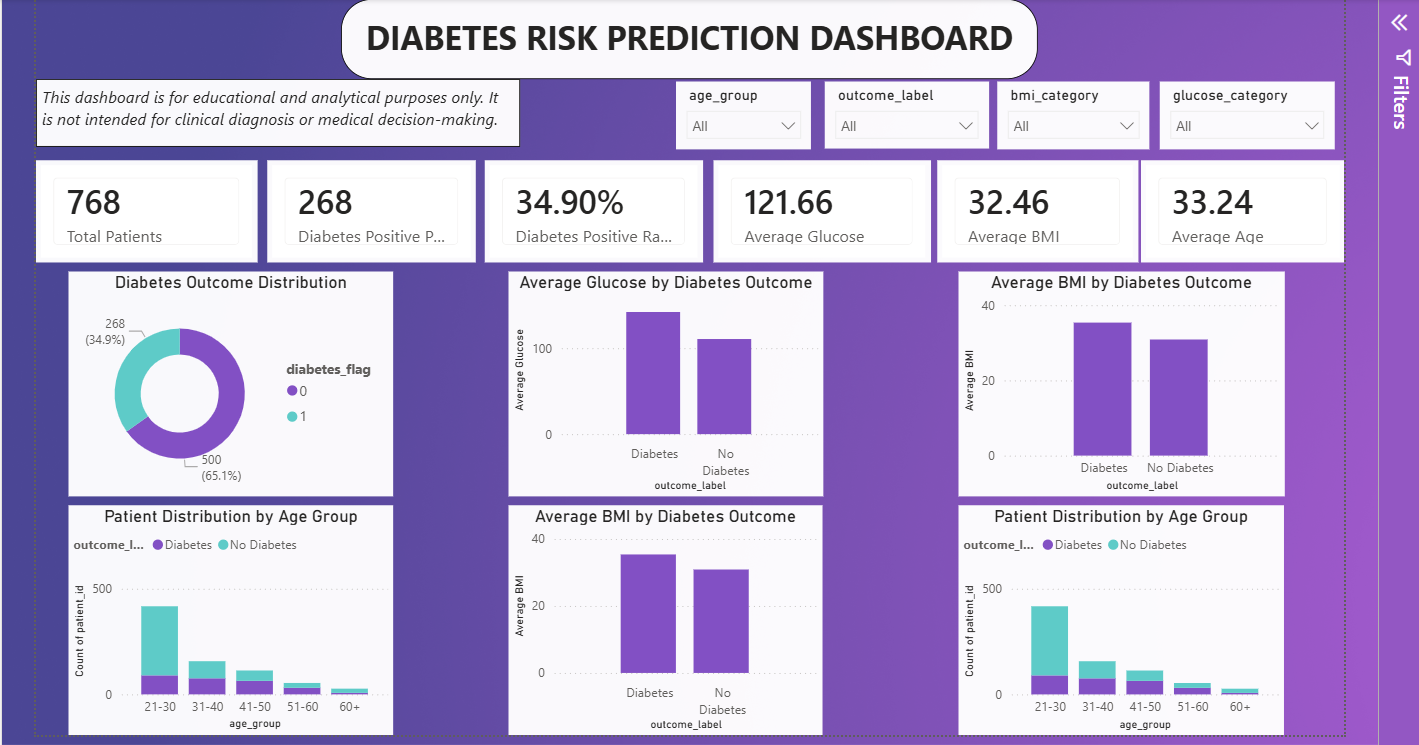

The dashboard page shown, as its layout file describes it:
{"tool":"powerbi","page":{"name":"Patient Risk Overview","canvas":[1280,720],"ordinal":0},"visuals":[{"type":"textbox","box":[0,78.3,473.2,66],"z":1},{"type":"textbox","box":[297.8,0,682,78.2],"z":2},{"type":"cardVisual","fields":{"Data":["fact_patients.Total Patients"]},"box":[0,157.7,216.4,100.3],"z":3},{"type":"cardVisual","fields":{"Data":["fact_patients.Diabetes Positive Patients"]},"box":[226.2,157.7,204.2,100.3],"z":4},{"type":"cardVisual","fields":{"Data":["fact_patients.Diabetes Positive Rate"]},"box":[439,157.7,214,100.3],"z":5},{"type":"cardVisual","fields":{"Data":["fact_patients.Average Glucose"]},"box":[662.8,157.7,212.8,100.3],"z":6},{"type":"cardVisual","fields":{"Data":["fact_patients.Average BMI"]},"box":[881.7,157.7,196.9,100.3],"z":7},{"type":"cardVisual","fields":{"Data":["fact_patients.Average Age"]},"box":[1081,157.7,199.3,100.3],"z":8},{"type":"donutChart","title":"Diabetes Outcome Distribution","fields":{"Category":["fact_patients.diabetes_flag"],"Y":["CountNonNull(fact_patients.diabetes_flag)"]},"box":[31.8,266.6,317.9,220.1],"z":9},{"type":"clusteredColumnChart","title":"Average Glucose by Diabetes Outcome","fields":{"Category":["fact_patients.outcome_label"],"Y":["fact_patients.Average Glucose"]},"box":[462.2,266.6,308.2,220.1],"z":10},{"type":"clusteredColumnChart","title":"Average BMI by Diabetes Outcome","fields":{"Y":["fact_patients.Average BMI"],"Category":["fact_patients.outcome_label"]},"box":[902.5,266.6,319.2,220.1],"z":11},{"type":"columnChart","title":"Patient Distribution by Age Group","fields":{"Category":["fact_patients.age_group"],"Y":["CountNonNull(fact_patients.patient_id)"],"Series":["fact_patients.outcome_label"]},"box":[31.8,495.2,317.9,225],"z":12},{"type":"clusteredColumnChart","title":"Average BMI by Diabetes Outcome","fields":{"Category":["fact_patients.outcome_label"],"Y":["fact_patients.Average BMI"]},"box":[462.4,495.4,307.4,225],"z":13},{"type":"columnChart","title":"Patient Distribution by Age Group","fields":{"Category":["fact_patients.age_group"],"Y":["Count(fact_patients.patient_id)"],"Series":["fact_patients.outcome_label"]},"box":[902.9,495.4,318.4,225],"z":14},{"type":"slicer","fields":{"Values":["fact_patients.age_group"]},"box":[626.1,80.7,132.1,66],"z":15},{"type":"slicer","fields":{"Values":["fact_patients.bmi_category"]},"box":[940.4,80.7,149.2,66],"z":16},{"type":"slicer","fields":{"Values":["fact_patients.glucose_category"]},"box":[1099.3,80.7,171.2,66],"z":17},{"type":"slicer","fields":{"Values":["fact_patients.outcome_label"]},"box":[771.2,81.2,160.5,65.9],"z":18}]}

Visuals, with their boxes in screenshot pixels (x1, y1, x2, y2):
textbox: <bbox>33, 76, 517, 144</bbox>
textbox: <bbox>338, 0, 1035, 76</bbox>
cardVisual - fact_patients.Total Patients: <bbox>33, 158, 255, 260</bbox>
cardVisual - fact_patients.Diabetes Positive Patients: <bbox>265, 158, 473, 260</bbox>
cardVisual - fact_patients.Diabetes Positive Rate: <bbox>482, 158, 701, 260</bbox>
cardVisual - fact_patients.Average Glucose: <bbox>711, 158, 928, 260</bbox>
cardVisual - fact_patients.Average BMI: <bbox>935, 158, 1136, 260</bbox>
cardVisual - fact_patients.Average Age: <bbox>1138, 158, 1342, 260</bbox>
"Diabetes Outcome Distribution" donutChart: <bbox>66, 269, 391, 494</bbox>
"Average Glucose by Diabetes Outcome" clusteredColumnChart: <bbox>506, 269, 821, 494</bbox>
"Average BMI by Diabetes Outcome" clusteredColumnChart: <bbox>956, 269, 1282, 494</bbox>
"Patient Distribution by Age Group" columnChart: <bbox>66, 503, 391, 733</bbox>
"Average BMI by Diabetes Outcome" clusteredColumnChart: <bbox>506, 503, 820, 733</bbox>
"Patient Distribution by Age Group" columnChart: <bbox>956, 503, 1282, 733</bbox>
slicer - fact_patients.age_group: <bbox>673, 79, 808, 146</bbox>
slicer - fact_patients.bmi_category: <bbox>995, 79, 1147, 146</bbox>
slicer - fact_patients.glucose_category: <bbox>1157, 79, 1332, 146</bbox>
slicer - fact_patients.outcome_label: <bbox>822, 79, 986, 147</bbox>
